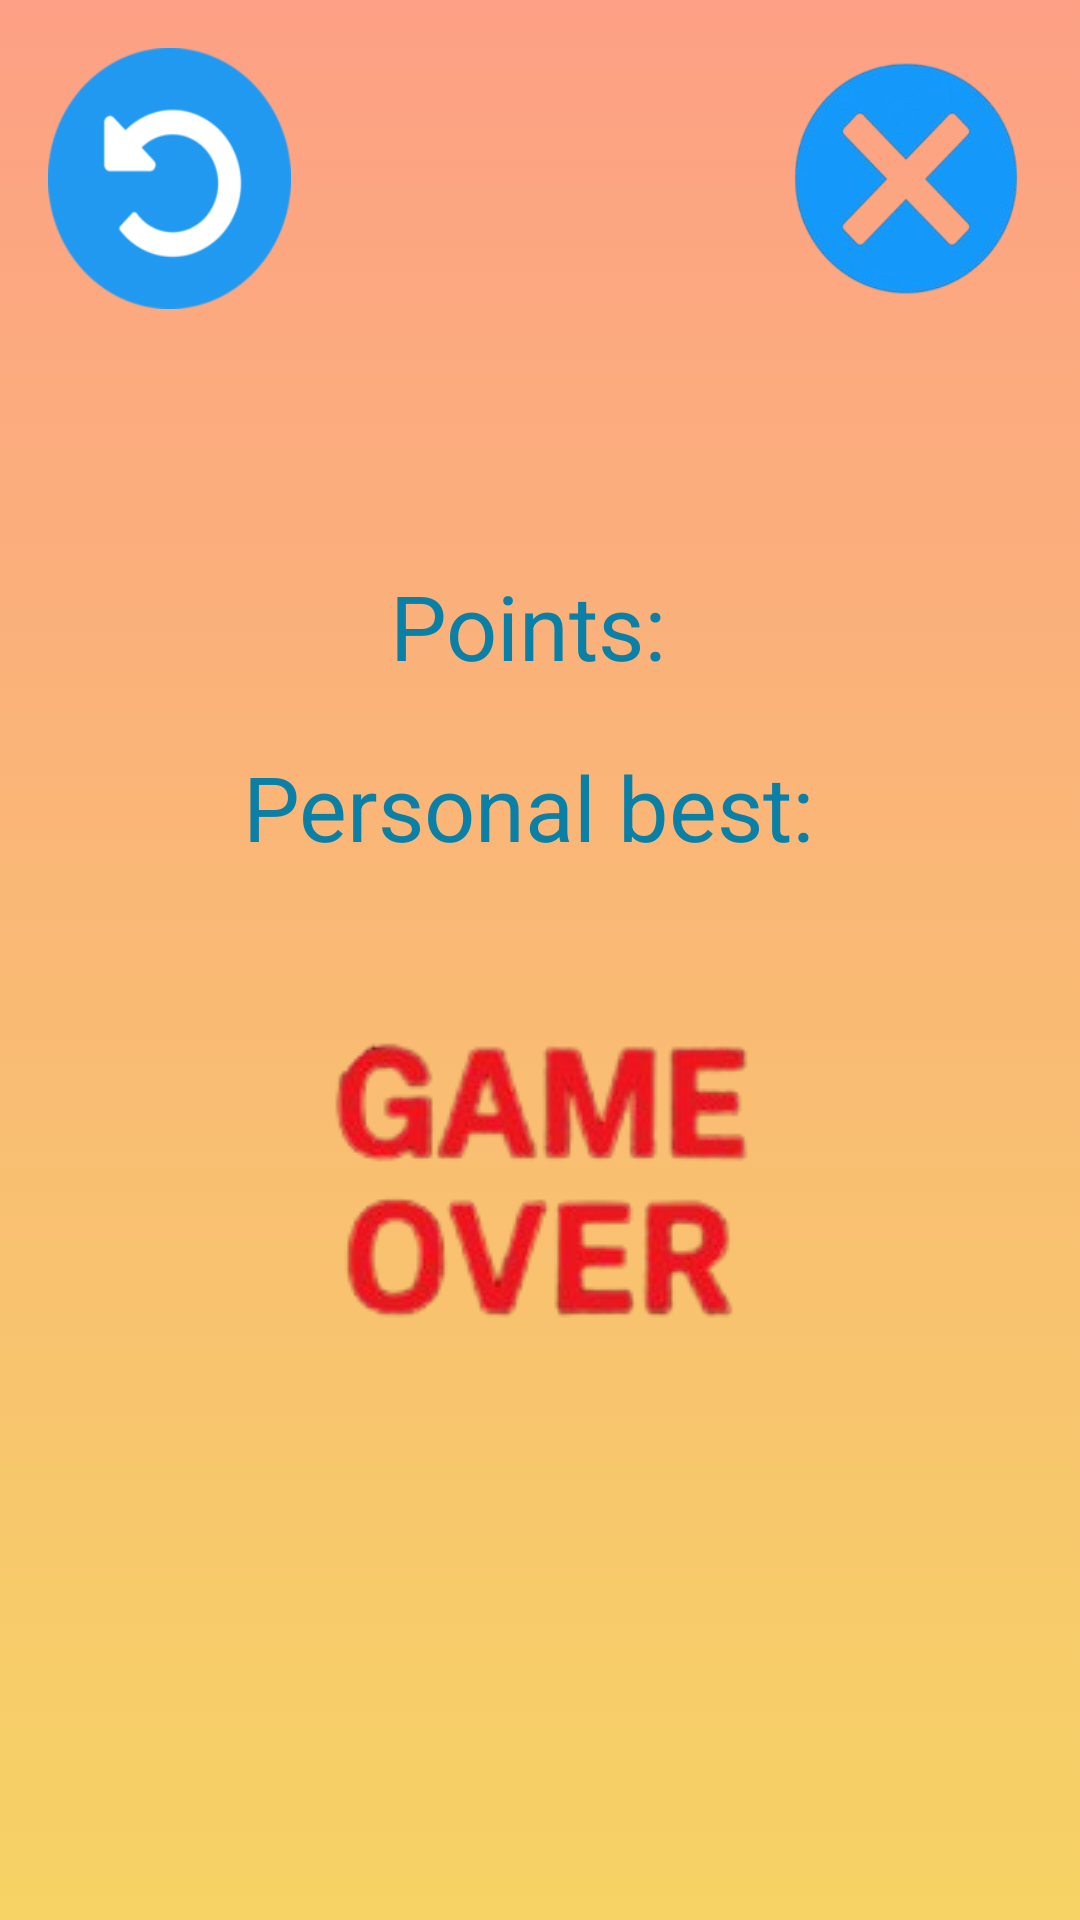

Where to tap for icons on this 1080px x 1920px app screen, as [x,y]:
exit: [906,178]
restart: [169,178]
